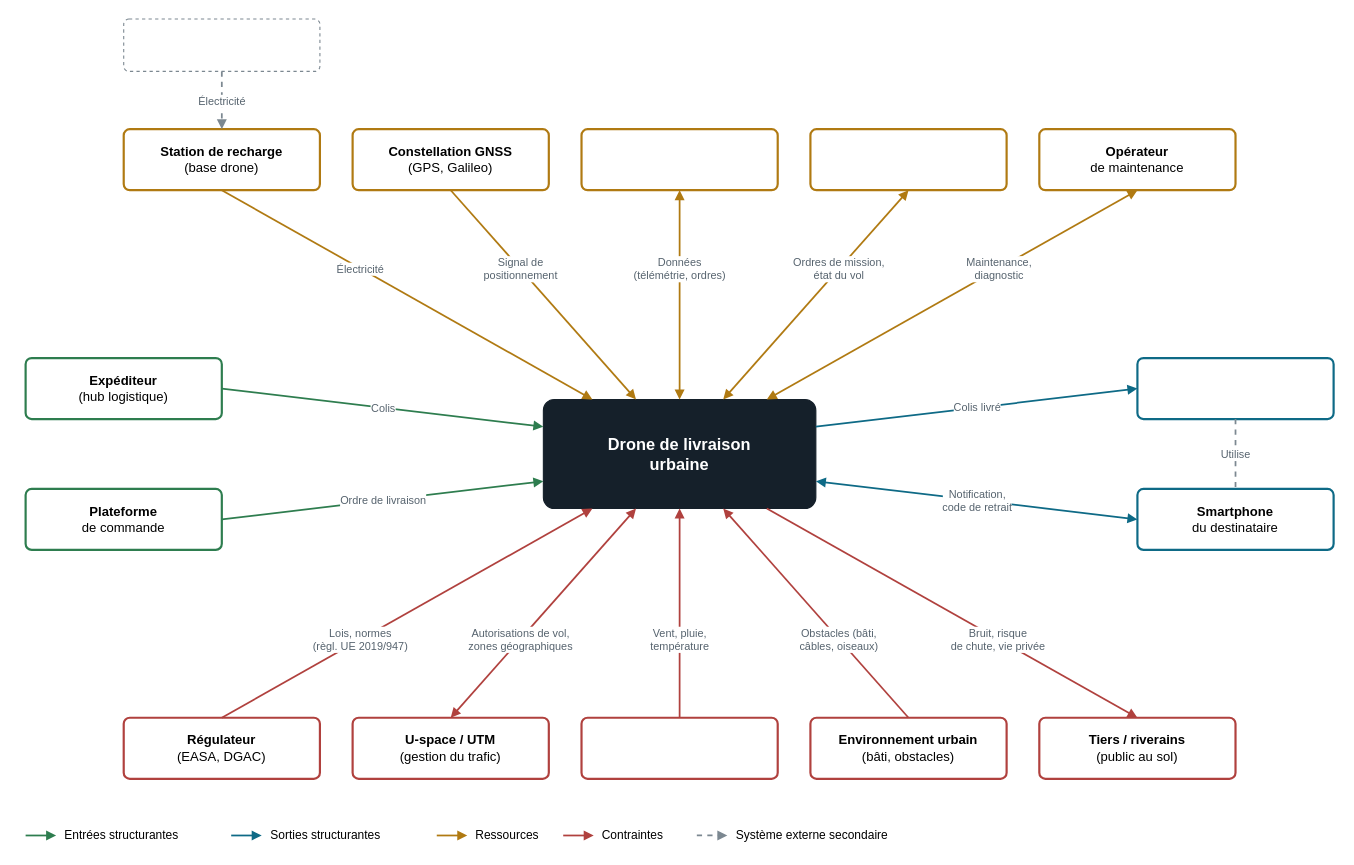
Some shapes in this 1354 by 865 pixel diagram are drawn without their labels. Here are the shapes that lost their labels. From the top down, the centre of each, then its label:
At (x=221, y=44): "Réseau électrique".
At (x=679, y=159): "Réseau mobile 4G / 5G".
At (x=908, y=159): "Centre de supervision (télépilote)".
At (x=1235, y=388): "Destinataire".
At (x=679, y=747): "Climat (météo)".
